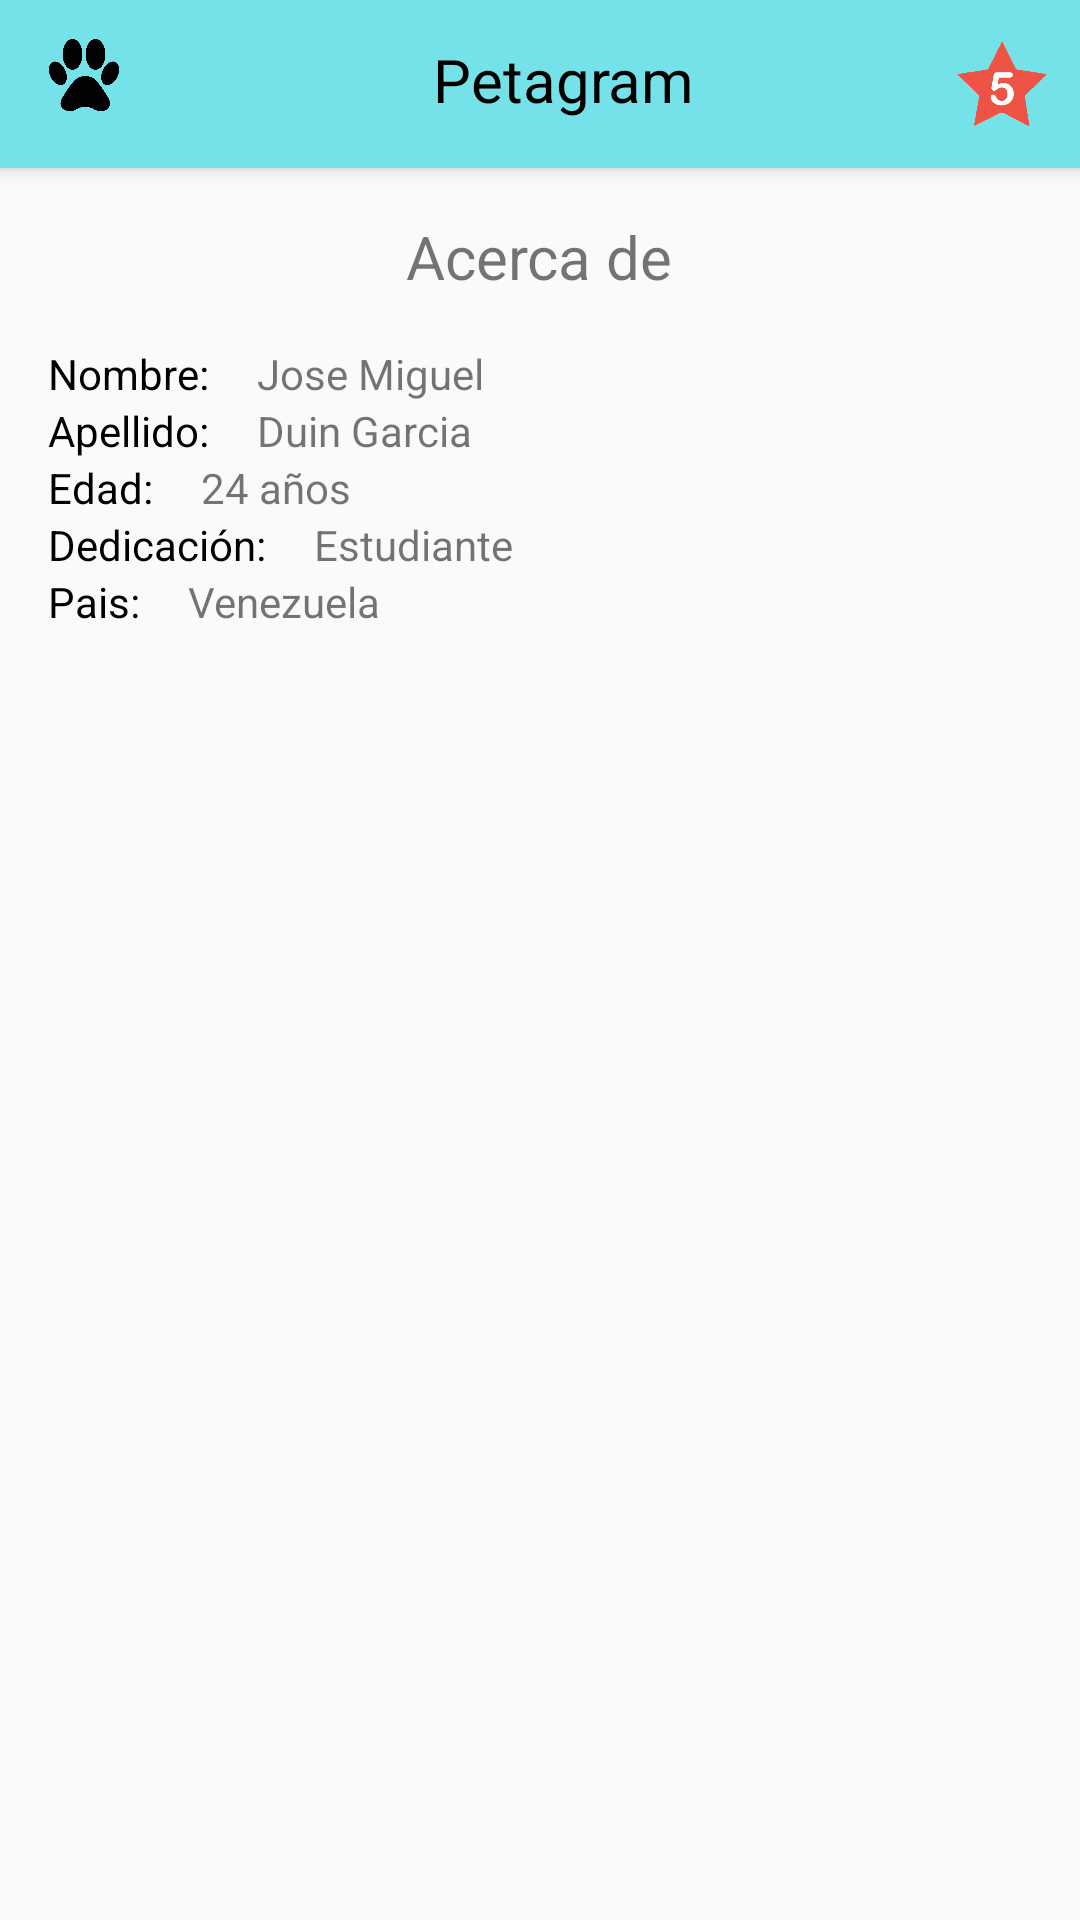

Icon bounding boxes for this 1080 x 1920 phone screenshot, format Rect(x1, y1, x2, y2):
estrella: Rect(957, 42, 1047, 126)
huella: Rect(49, 39, 119, 111)
